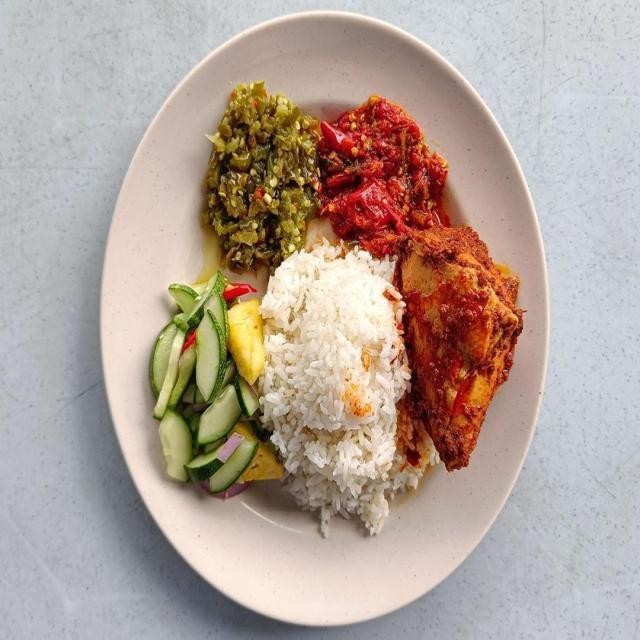Chicken: (394, 227, 526, 471)
Plate: (100, 12, 548, 624)
Rice: (257, 240, 438, 547)
Vegetables: (146, 273, 286, 505)
